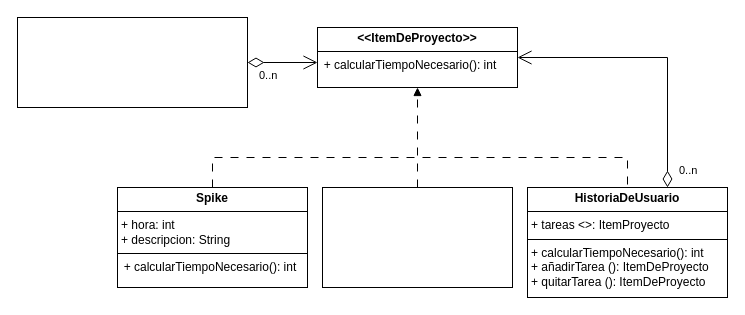
The diagram is 745 pixels wide and 315 high, and some of its shapes have lost their labels. The shapes that lost their labels are listed below. From the top down, each one's centre as x and y in pixels, then its label:
At point (132, 62): "ProyectoScrum + itemsDelProyecto<>: ItemDeProyecto + calcularTiempoTotal (): int".
At point (417, 237): "Tarea + hora: int + descripcion: String + calcularTiempoNecesario(): int".
